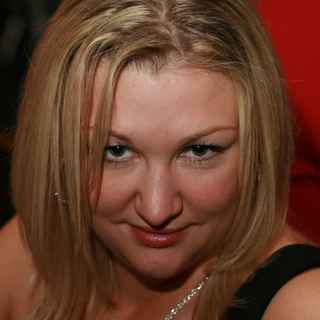eye: (92, 135, 149, 169), (173, 135, 227, 166)
